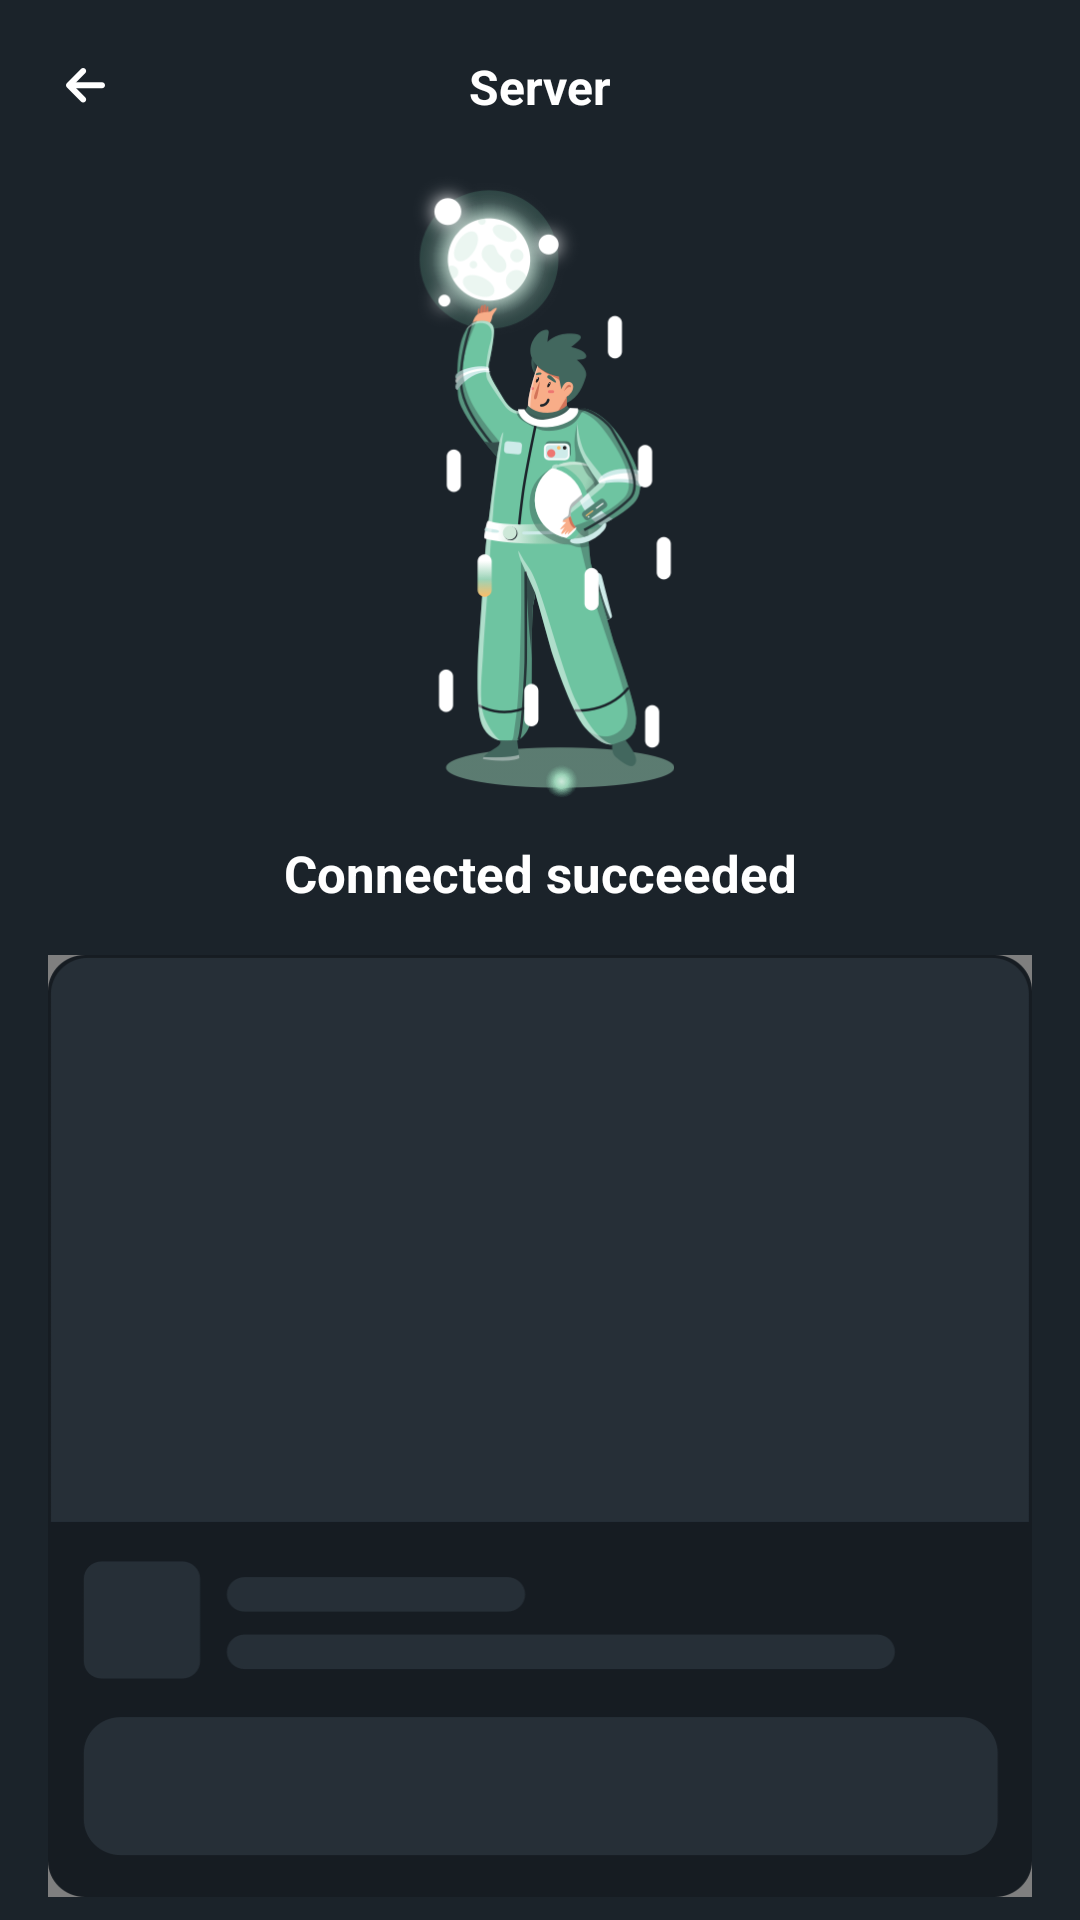

Icons on this 1080×1920 Android screen, each with the point to tap as (x=x, y=y):
back: (x=85, y=85)
